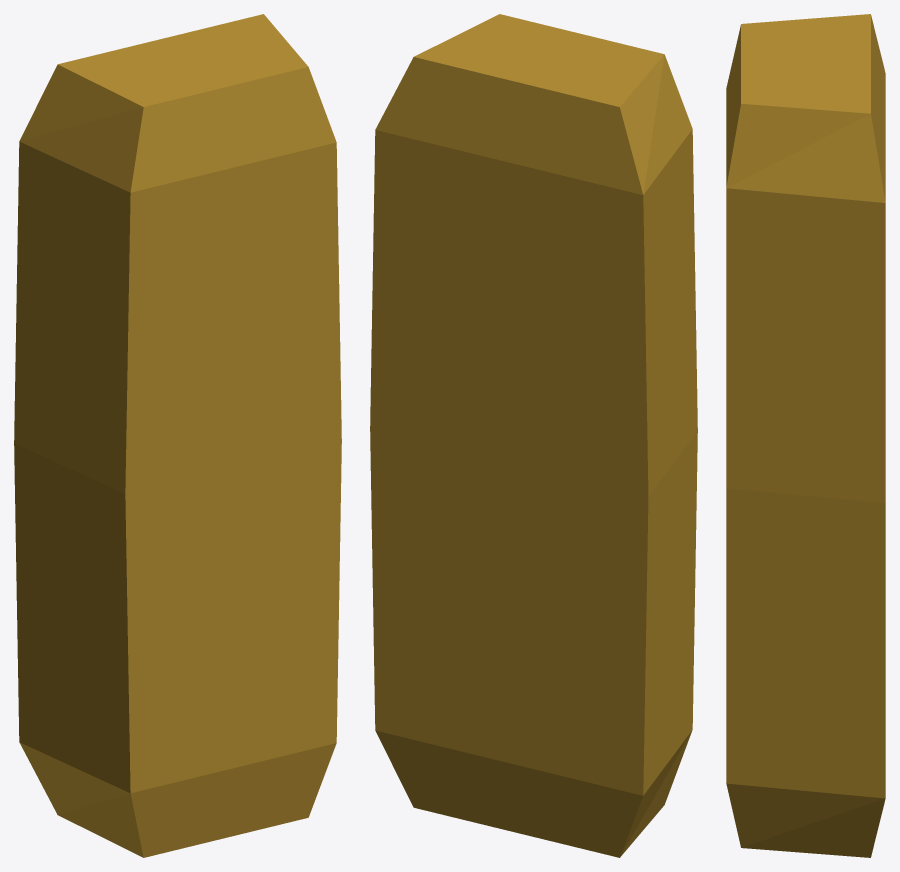
The model's file is gold_ingot.gltf.
The picture shows the model from 3 angles, left to right: view 1: azimuth 30°, elevation 25°; view 2: azimuth 150°, elevation 25°; view 3: azimuth 270°, elevation 25°; orthographic projection.
Visible parts, largest first — view 1: gold_ingot; view 2: gold_ingot; view 3: gold_ingot.
Part boxes in pixels (x1=…): gold_ingot: x1=14, y1=14, x2=341, y2=857; gold_ingot: x1=370, y1=14, x2=697, y2=857; gold_ingot: x1=726, y1=14, x2=885, y2=857.
Size of the model in its own units: 0.0962 by 0.248 by 0.0481.
